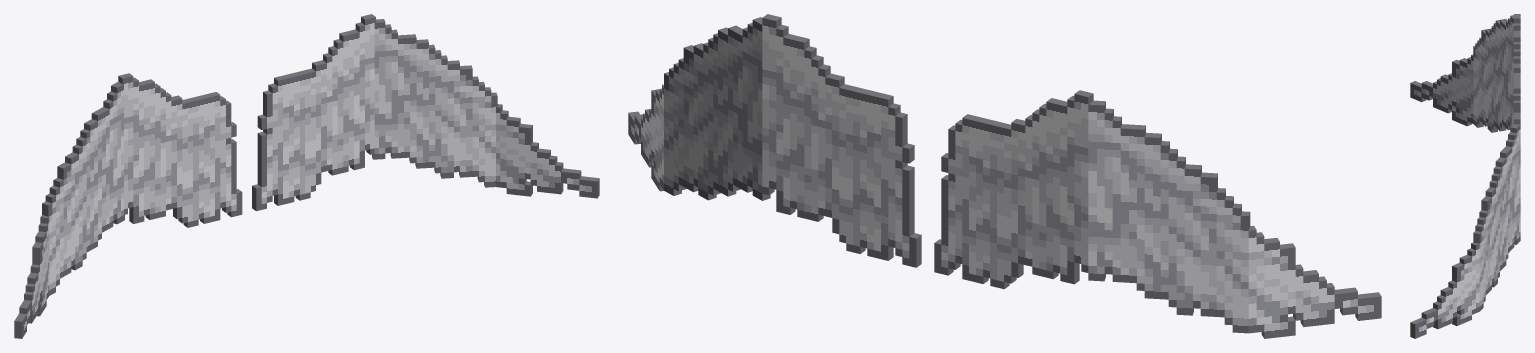
The model's file is angel_wings.glb.
The picture shows the model from 3 angles, left to right: view 1: azimuth 30°, elevation 25°; view 2: azimuth 150°, elevation 25°; view 3: azimuth 270°, elevation 25°; orthographic projection. The views are drawn at different scales.
Parts seen in each view (by area): view 1: angel_wings; view 2: angel_wings; view 3: angel_wings.
Part boxes in pixels (<box>): angel_wings: <box>14,14,599,338</box>; angel_wings: <box>628,14,1381,338</box>; angel_wings: <box>1410,14,1520,338</box>.
Size of the model in its own units: 2.62 by 0.78 by 0.5017.
1 material, 1 textured.
